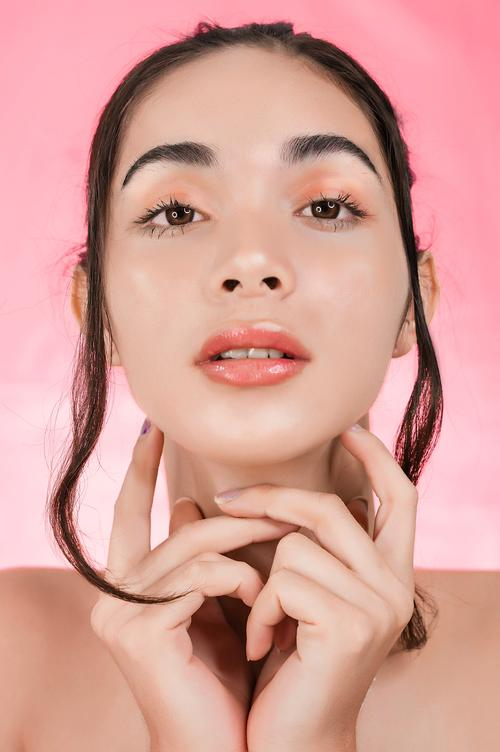nomask: (102, 33, 424, 448)
